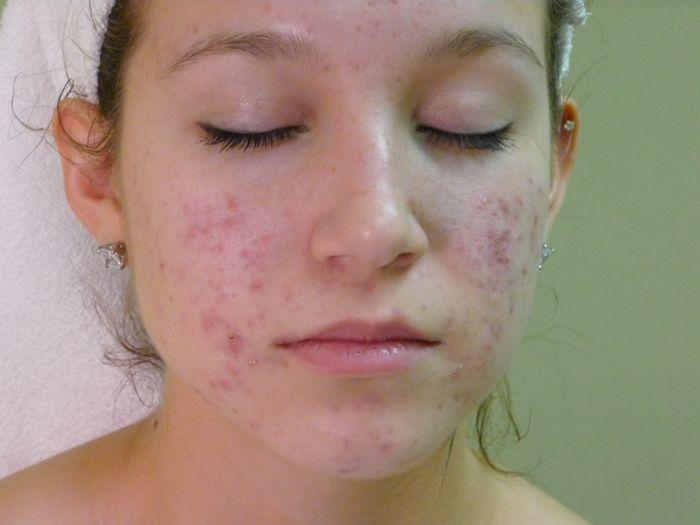Acne: (171, 194, 290, 398), (462, 188, 548, 388), (248, 0, 451, 75), (325, 398, 407, 473), (227, 406, 287, 444), (432, 369, 464, 414)
